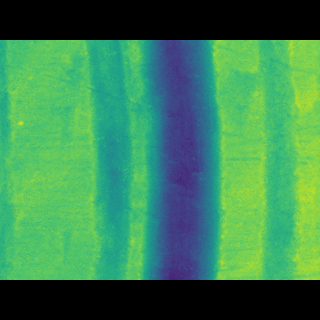Loch: (80, 69, 320, 249)
